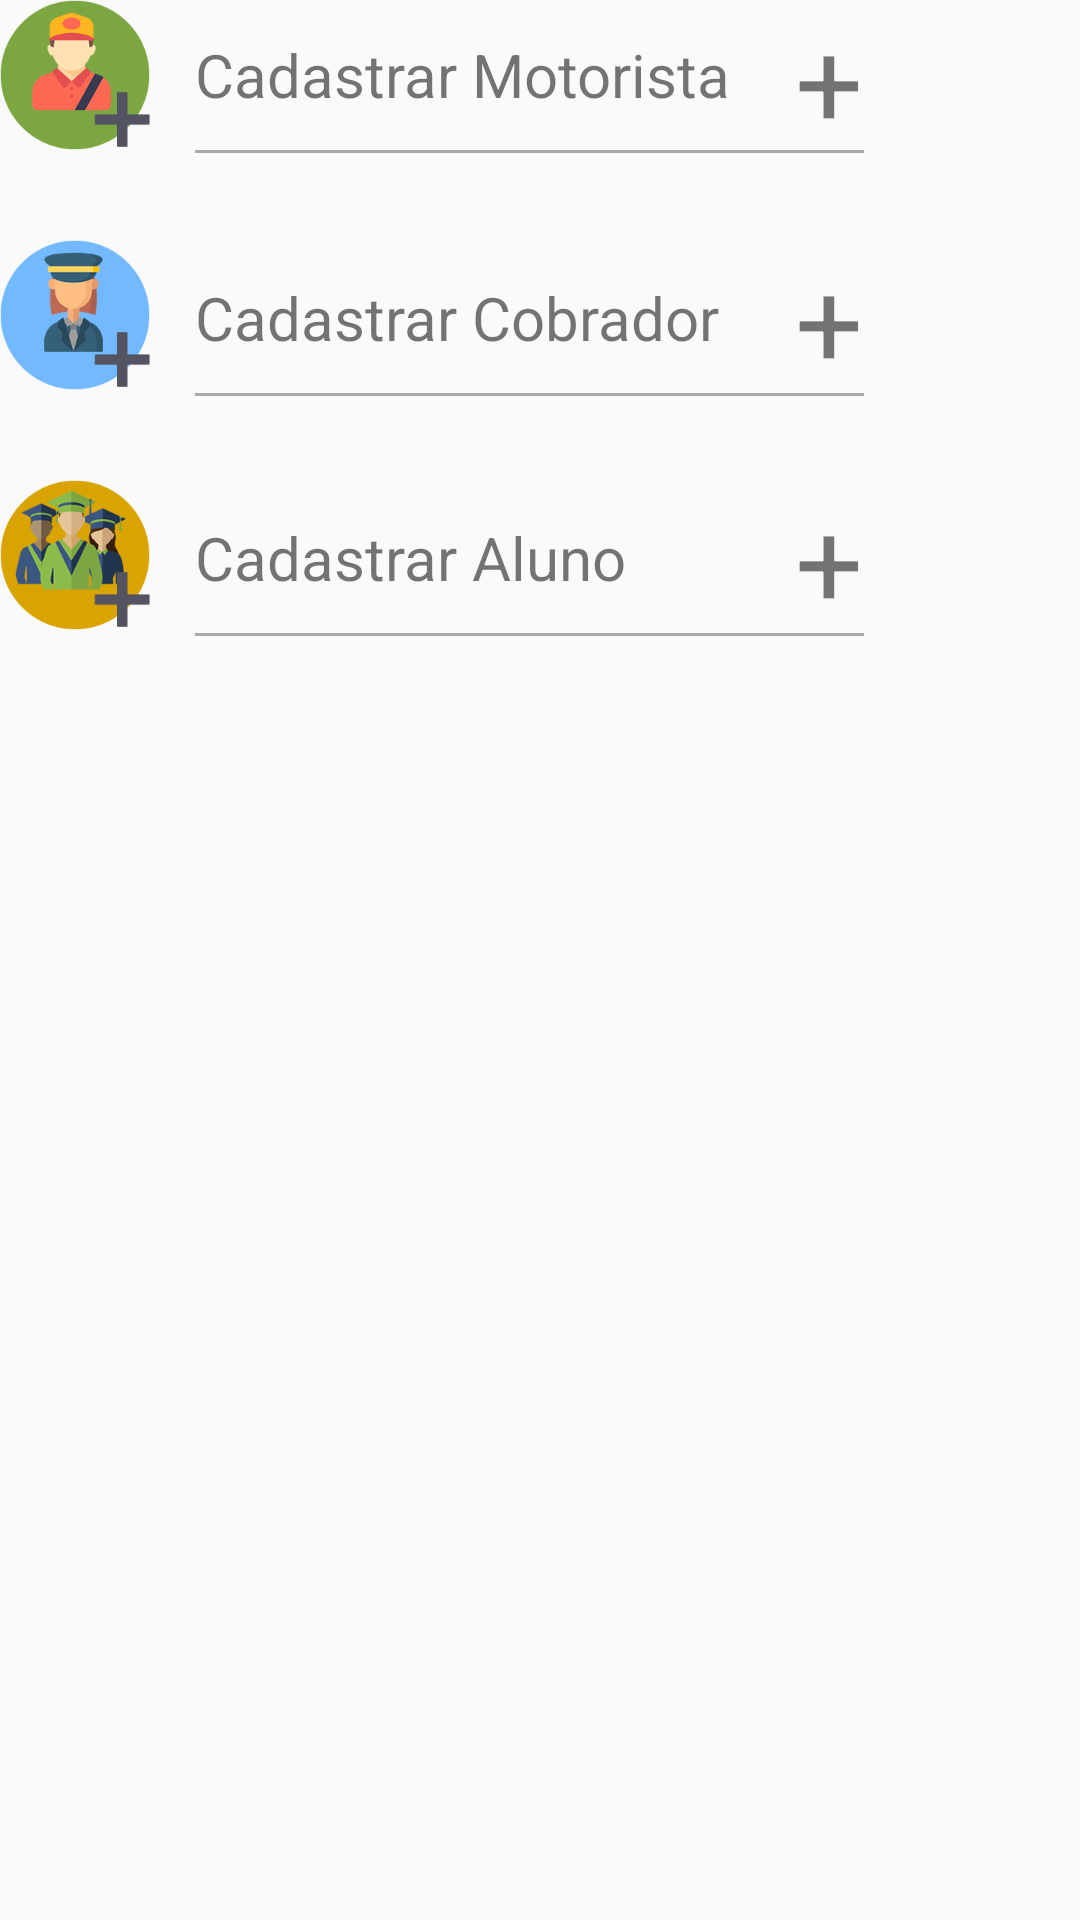

Icon click points for this 1080px×1920px phone screenshot, format point (x, y):
cad usuarios alunos: point (75, 555)
cad usuarios cobrador: point (75, 315)
cad usuarios motorista: point (75, 75)
